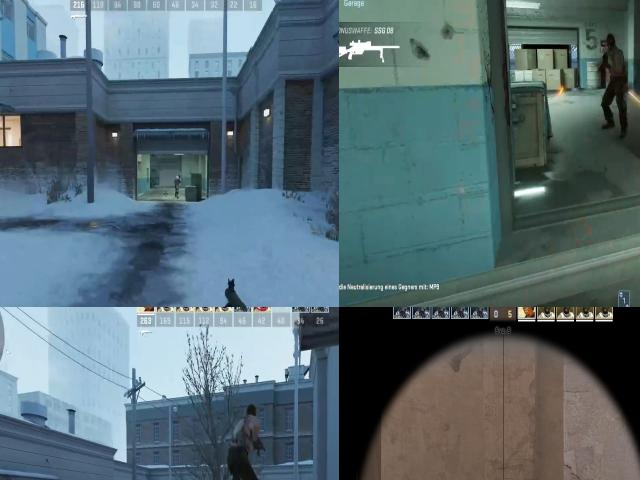CT: (172, 174, 181, 193)
CT-Head: (176, 173, 182, 182)
T: (225, 416, 262, 460), (604, 39, 628, 93)
T-Head: (601, 31, 622, 59), (245, 401, 259, 419)
